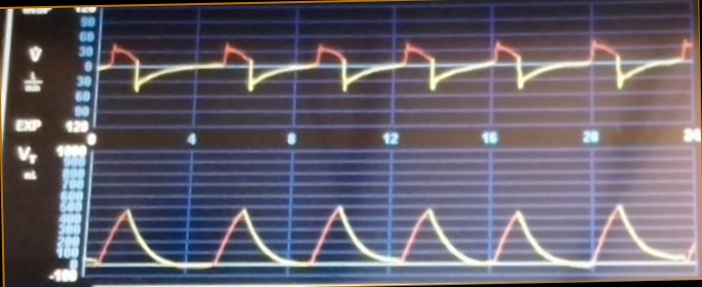Normal Flow: (101, 28, 692, 111)
Normal Volume: (89, 185, 694, 272)
